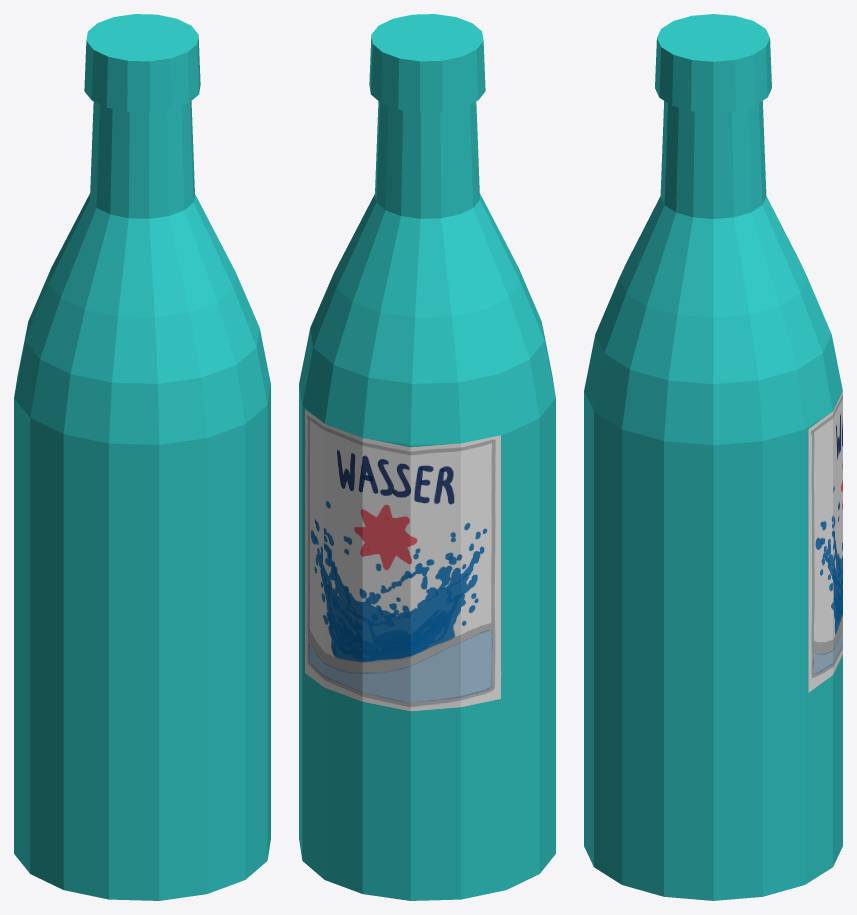
The model's file is wasser.obj.
3 views of the same model, side by side, from view 1: azimuth 30°, elevation 25°; view 2: azimuth 150°, elevation 25°; view 3: azimuth 270°, elevation 25° (orthographic).
Visible parts, largest first — view 1: Cylinder.217; view 2: Cylinder.217; view 3: Cylinder.217.
Boxes of the visible parts, box(x1,y1,x2,y2) form: Cylinder.217: box(14, 14, 270, 900); Cylinder.217: box(299, 14, 555, 900); Cylinder.217: box(584, 14, 842, 900).
Bounding box in the file's own units: 0.0698 × 0.2407 × 0.0698.
